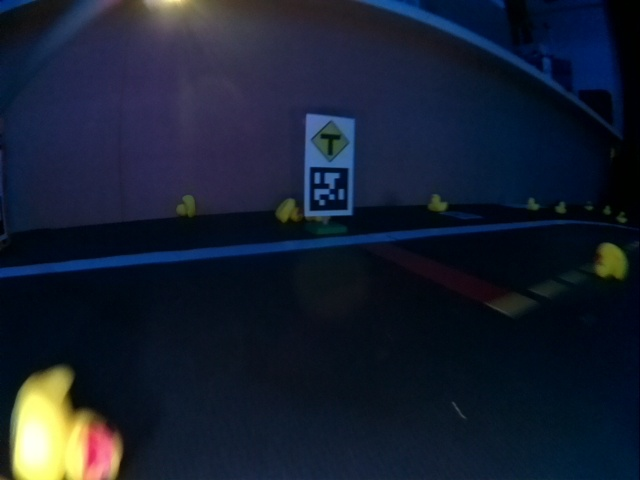Duckie: (7, 366, 122, 478), (596, 244, 628, 279), (276, 198, 300, 221), (176, 195, 196, 217), (428, 194, 443, 210), (527, 199, 539, 209), (617, 213, 627, 223), (556, 203, 566, 212), (586, 202, 594, 211), (604, 205, 611, 213)
Intersection sign: (310, 119, 350, 163)
QR code: (310, 167, 349, 210)
